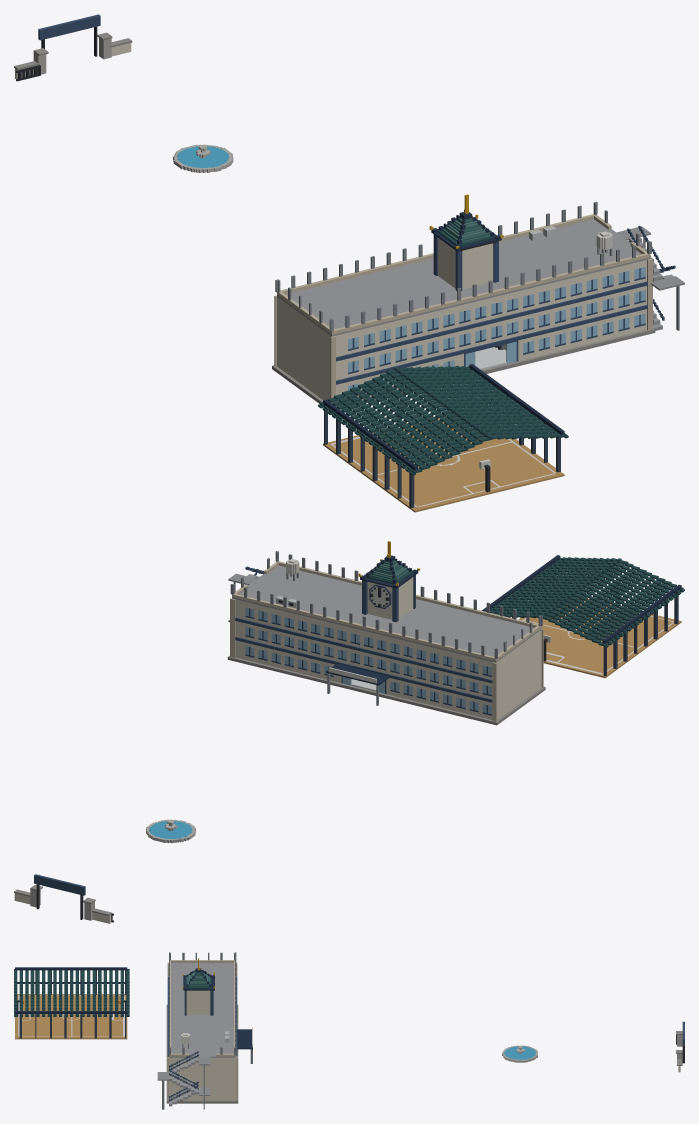
File: BlossomHero.glb
The picture shows the model from 3 angles, top to bottom: view 1: azimuth 30°, elevation 25°; view 2: azimuth 150°, elevation 25°; view 3: azimuth 270°, elevation 25°; orthographic projection. The views are drawn at different scales.
Parts seen in each view (by area): view 1: BlossomHero3, BlossomHero2, BlossomHero1; view 2: BlossomHero2, BlossomHero3, BlossomHero1; view 3: BlossomHero3, BlossomHero2, BlossomHero1.
Part boxes in pixels (x1=…): BlossomHero3: x1=318, y1=241, x2=684, y2=512; BlossomHero2: x1=272, y1=194, x2=665, y2=403; BlossomHero1: x1=14, y1=14, x2=233, y2=172; BlossomHero2: x1=227, y1=541, x2=536, y2=725; BlossomHero3: x1=254, y1=551, x2=684, y2=695; BlossomHero1: x1=14, y1=819, x2=195, y2=923; BlossomHero3: x1=14, y1=952, x2=179, y2=1109; BlossomHero2: x1=180, y1=952, x2=252, y2=1109; BlossomHero1: x1=502, y1=1021, x2=684, y2=1072.
Size of the model in its own units: 147 by 57 by 359.
